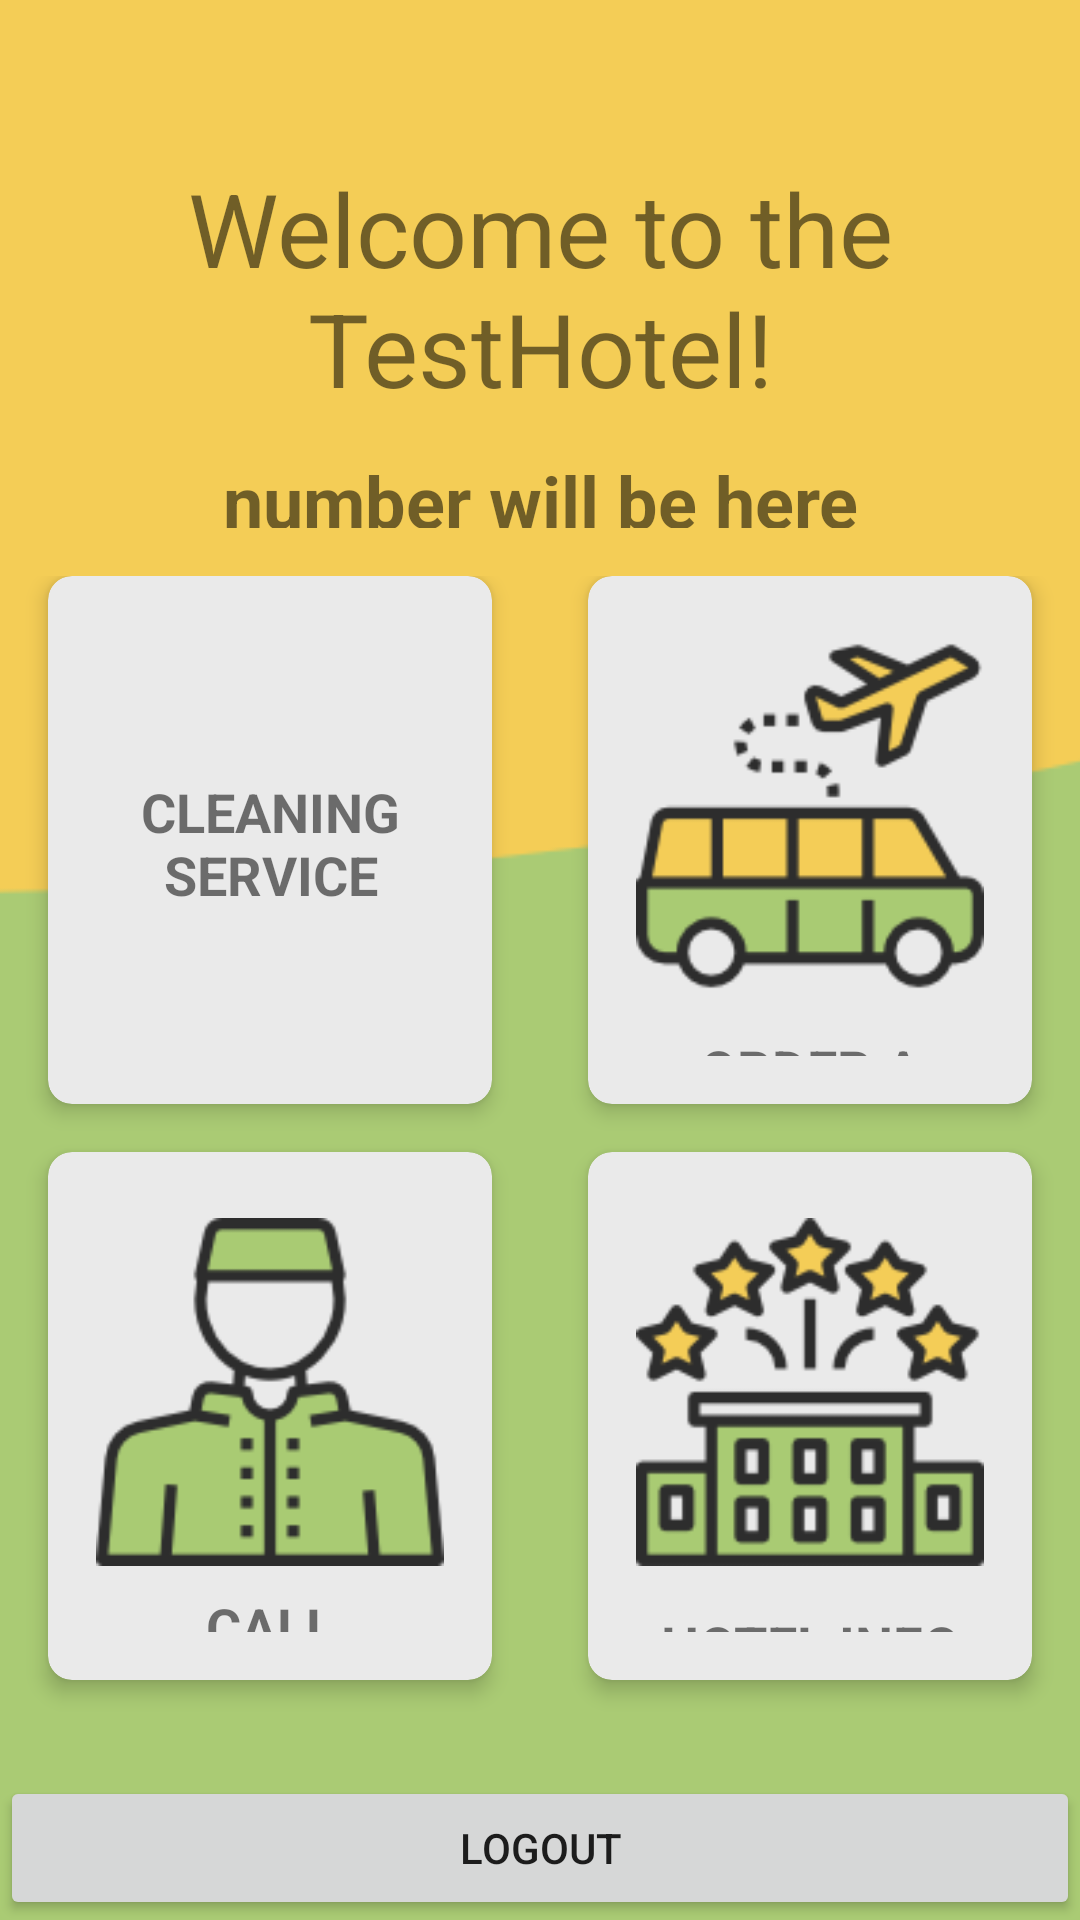

Screen size 1080px×1920px. Icon name, then its box in pixels as box(x1, y1, x2, y2):
staff colors: box(96, 1218, 444, 1566)
travel colors: box(636, 644, 984, 988)
